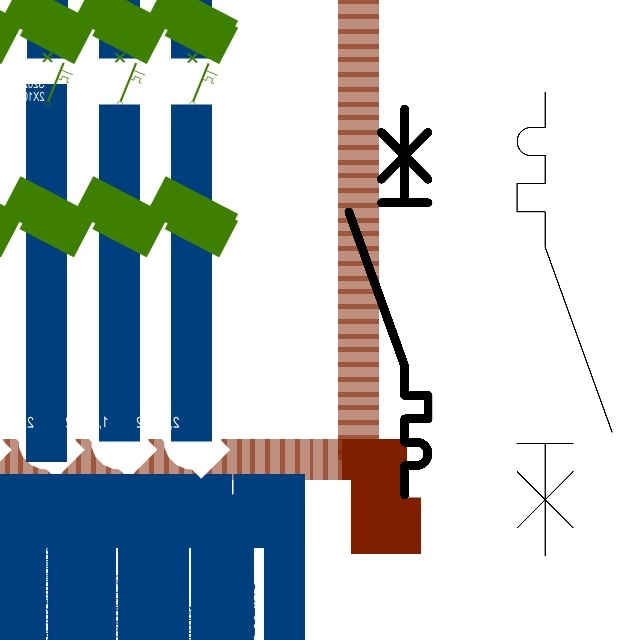interruptor_termomagnetico: (505, 80, 624, 568), (339, 99, 438, 505)
